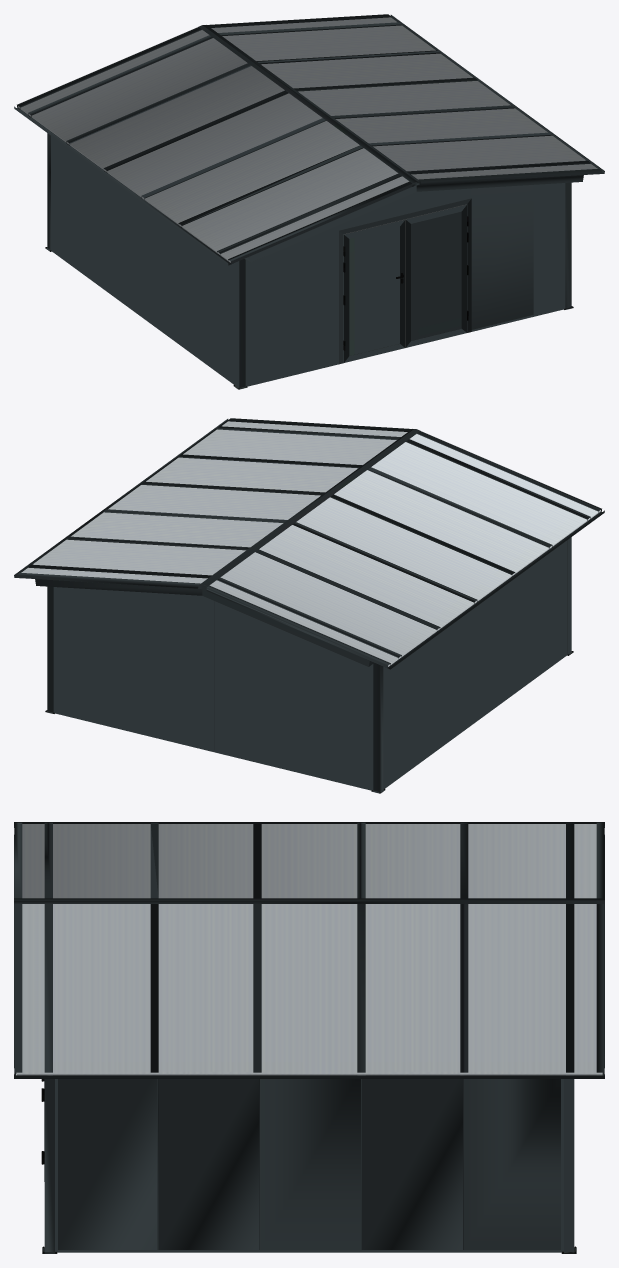
3 views of the same model, one above another, from view 1: azimuth 30°, elevation 25°; view 2: azimuth 150°, elevation 25°; view 3: azimuth 270°, elevation 25° (orthographic). The views are drawn at different scales.
Parts seen in each view (by area): view 1: priximbattable_net_abris_de_jardin_640004_abri_de_jardin_orc, folha_2, folha, porta_dupla; view 2: priximbattable_net_abris_de_jardin_640004_abri_de_jardin_orc; view 3: priximbattable_net_abris_de_jardin_640004_abri_de_jardin_orc.
Boxes of the visible parts, box(x1,y1,x2,y2) form: priximbattable_net_abris_de_jardin_640004_abri_de_jardin_orc: box(14, 14, 604, 389); folha_2: box(343, 219, 405, 362); folha: box(405, 204, 468, 347); porta_dupla: box(339, 198, 471, 364); priximbattable_net_abris_de_jardin_640004_abri_de_jardin_orc: box(14, 418, 604, 793); priximbattable_net_abris_de_jardin_640004_abri_de_jardin_orc: box(14, 822, 604, 1253).
Size of the model in its own units: 589 by 261 by 580.
Materials: 1 (1 with a texture image).
